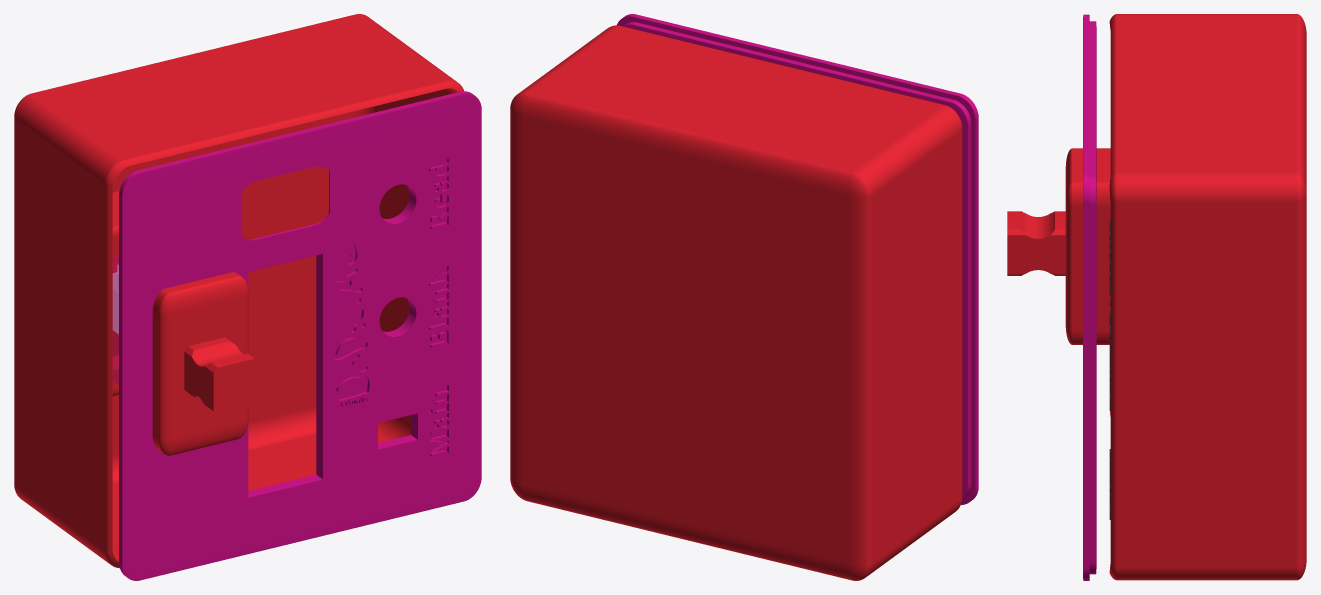
Rendered from parts.obj.
The picture shows the model from 3 angles, left to right: view 1: azimuth 30°, elevation 25°; view 2: azimuth 150°, elevation 25°; view 3: azimuth 270°, elevation 25°; orthographic projection.
Visible parts, largest first — view 1: obj_4, obj_1, obj_3, obj_0; view 2: obj_1, obj_4; view 3: obj_1, obj_3, obj_4, obj_2.
Boxes of the visible parts, x1,y1,x2,y2 form: obj_4: (119, 91, 481, 580); obj_1: (14, 14, 463, 568); obj_3: (152, 272, 258, 455); obj_0: (112, 256, 118, 384); obj_1: (510, 25, 962, 580); obj_4: (617, 14, 978, 504); obj_1: (1109, 14, 1306, 580); obj_3: (1007, 148, 1110, 344); obj_4: (1083, 14, 1096, 580); obj_2: (1109, 219, 1110, 519).
Size of the model in its own units: 120 by 130 by 86.99.
